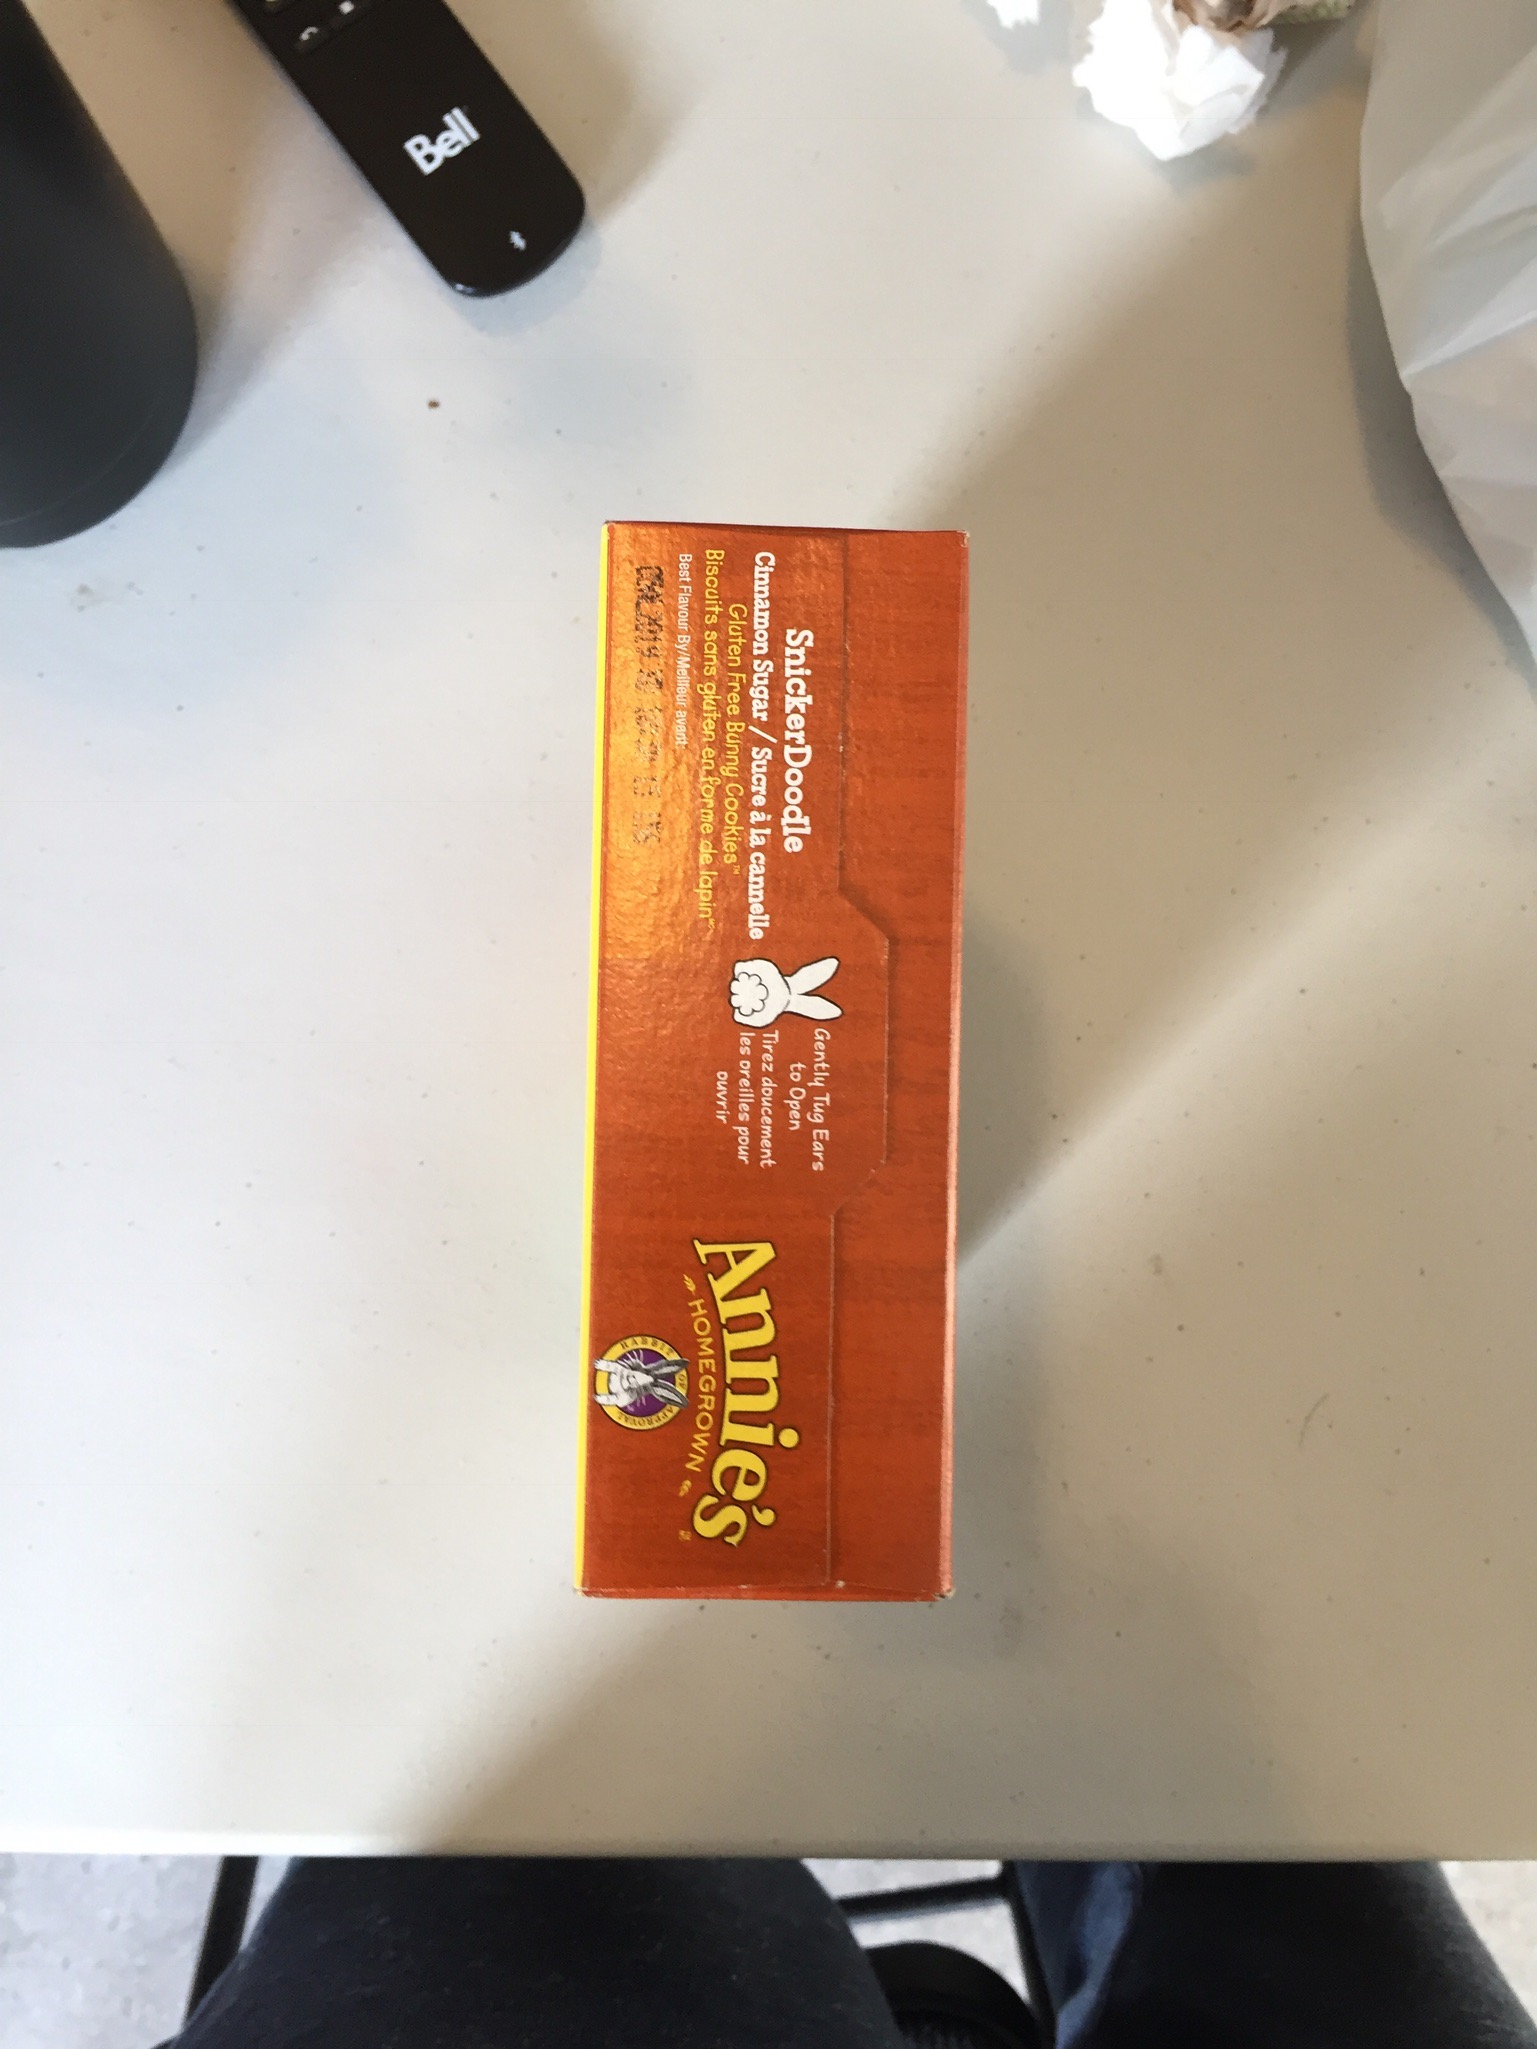annies_snickerdoodle_cinnamon_sugar: (610, 526, 927, 1595)
